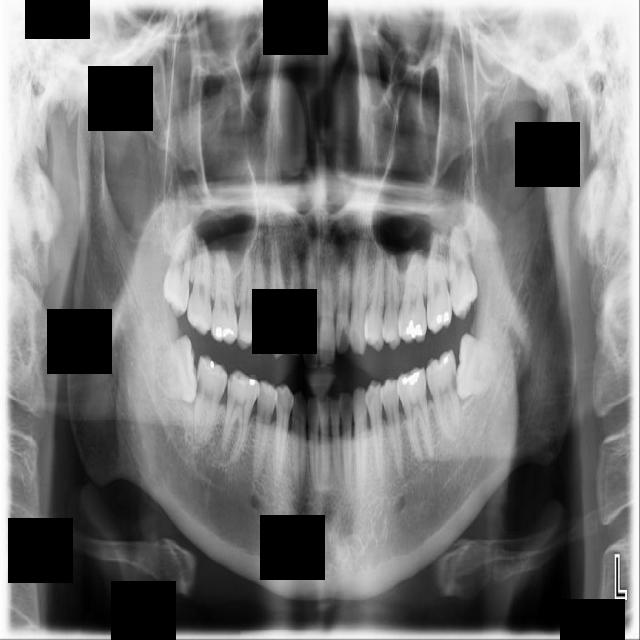3M ESPE Implant: (161, 224, 195, 318)
52: (417, 348, 466, 396), (187, 352, 237, 399), (391, 363, 435, 409), (220, 367, 265, 408), (208, 304, 241, 345), (397, 303, 428, 346), (426, 290, 452, 335), (451, 373, 457, 392), (195, 379, 201, 396), (227, 372, 233, 381), (237, 370, 242, 379)
73: (590, 570, 594, 578)
BioHorizons Implant: (425, 232, 452, 335)
BioLife Implant: (437, 219, 483, 321)
Biomet 3i Implant: (453, 331, 502, 402)
Blue Sky Bio Implant: (422, 348, 464, 444)
Caries: (186, 239, 214, 335)
Implant: (189, 355, 230, 448)
Keystone Dental Implant: (155, 336, 198, 403)
